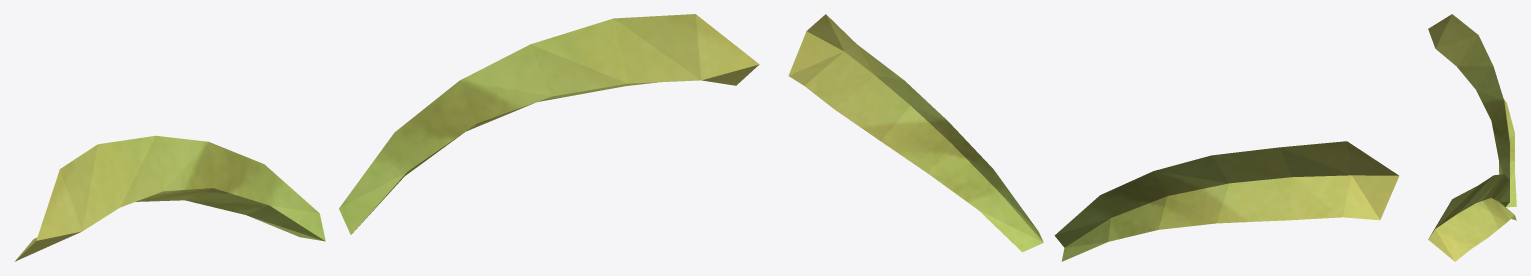
Rendered from skinSource0JDE.obj.
3 views of the same model, side by side, from view 1: azimuth 30°, elevation 25°; view 2: azimuth 150°, elevation 25°; view 3: azimuth 270°, elevation 25° (orthographic). The views are drawn at different scales.
Parts seen in each view (by area): view 1: skinSource0JDE; view 2: skinSource0JDE; view 3: skinSource0JDE.
Part boxes in pixels (left/top/right/bottom): skinSource0JDE: left=14, top=14, right=759, bottom=261; skinSource0JDE: left=788, top=14, right=1399, bottom=261; skinSource0JDE: left=1428, top=14, right=1516, bottom=261.
Size of the model in its own units: 19.52 by 4.63 by 3.48.
